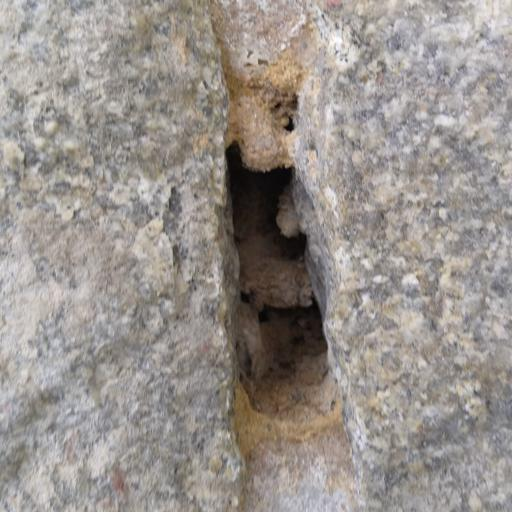spalling: (213, 43, 359, 480)
